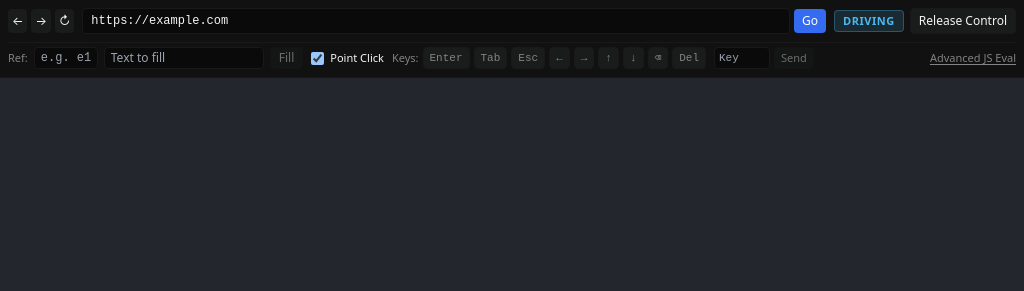
Test: RemoteBrowserControls eval refusal › refuses on the structured PERMISSION_DENIED code
Click the button with test id "remote-browser-eval-toggle".
click(973, 58)  # box x1=930 y1=50 x2=1016 y2=66
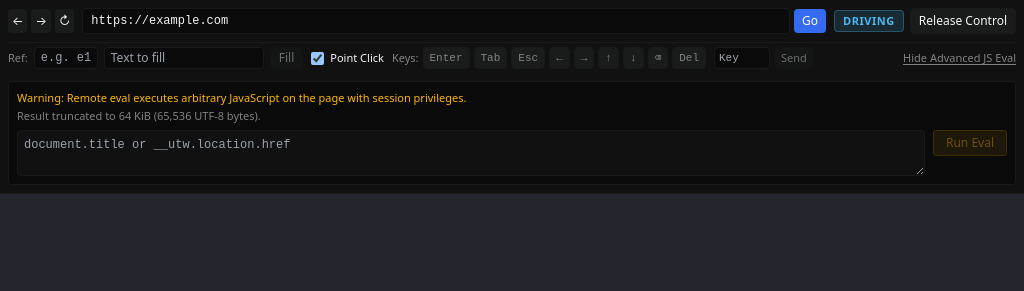
Type "document.title" into the text box with test id "remote-browser-eval-input".
click(471, 153); type("document.title")  # box x1=17 y1=130 x2=925 y2=176
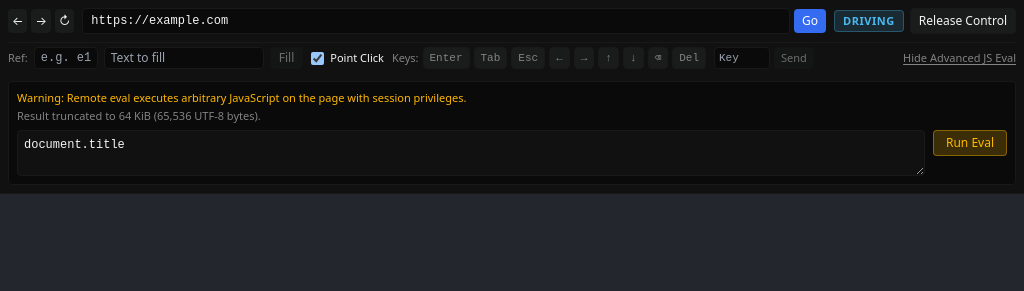
Click the button with test id "remote-browser-eval-run-btn".
click(970, 143)  # box x1=933 y1=130 x2=1007 y2=156
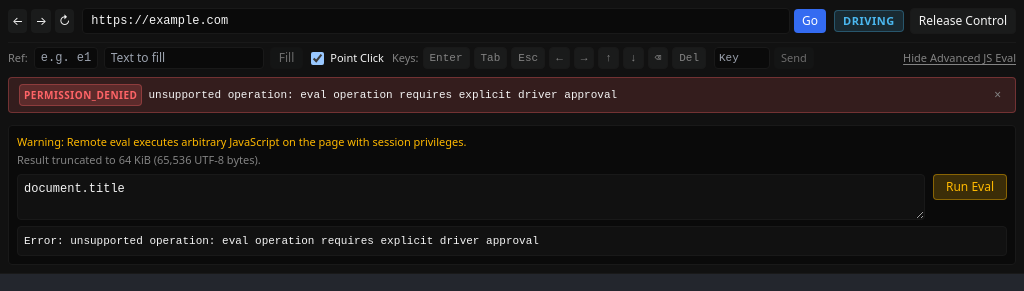
expect the message with test id "remote-browser-controls-refusal-banner" is shown: met, box x1=8 y1=77 x2=1016 y2=113
expect the text with test id "remote-browser-controls-refusal-code" reads "PERMISSION_DENIED": met, box x1=24 y1=88 x2=137 y2=102
expect the text with test id "remote-browser-controls-refusal-reason" reads "unsupported operation: eval operation requires explicit driver approval": met, box x1=148 y1=89 x2=617 y2=101
